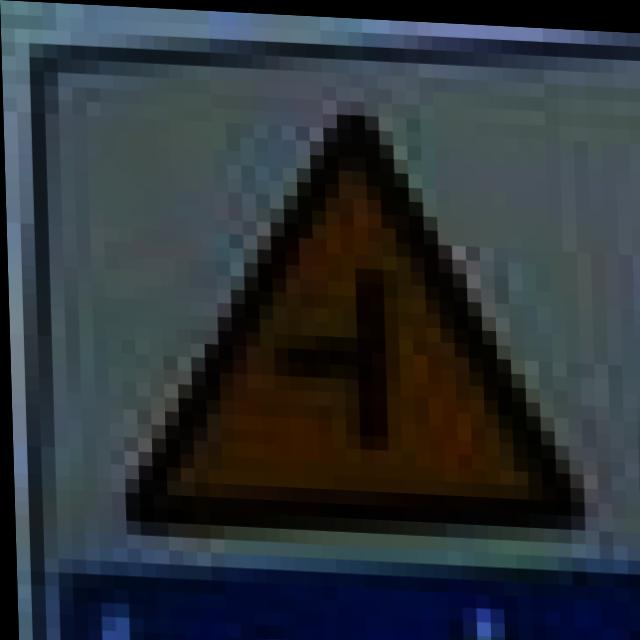SIDE_ROAD_LEFT: (113, 96, 579, 525)
